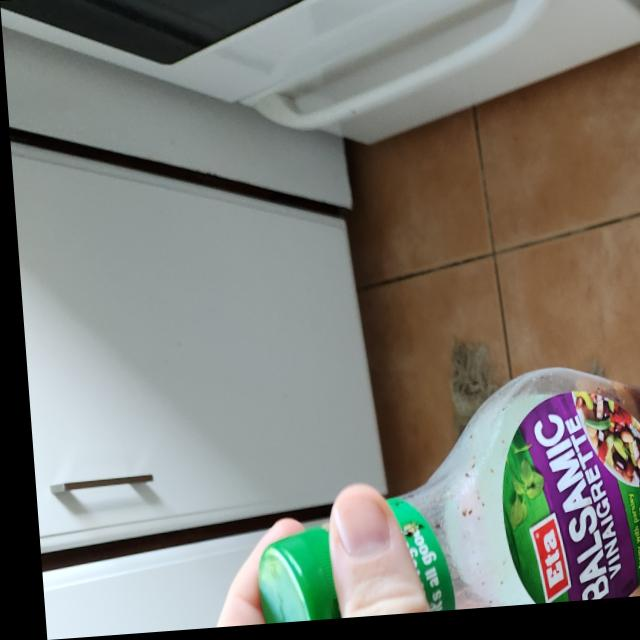balsamic vinaigrette: (236, 363, 640, 628)
